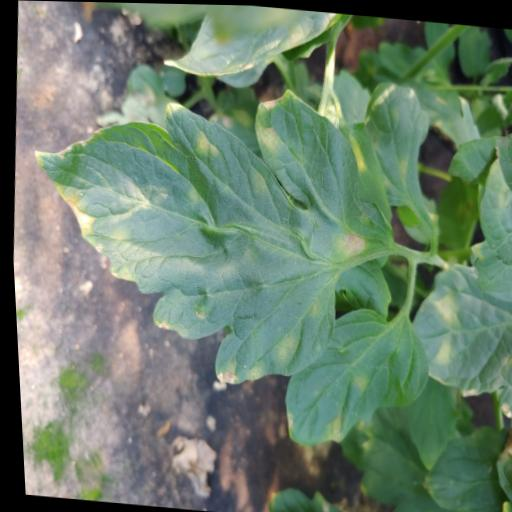Leaf Mold: (13, 62, 403, 397), (272, 298, 431, 456), (398, 257, 512, 416), (357, 77, 435, 206)
